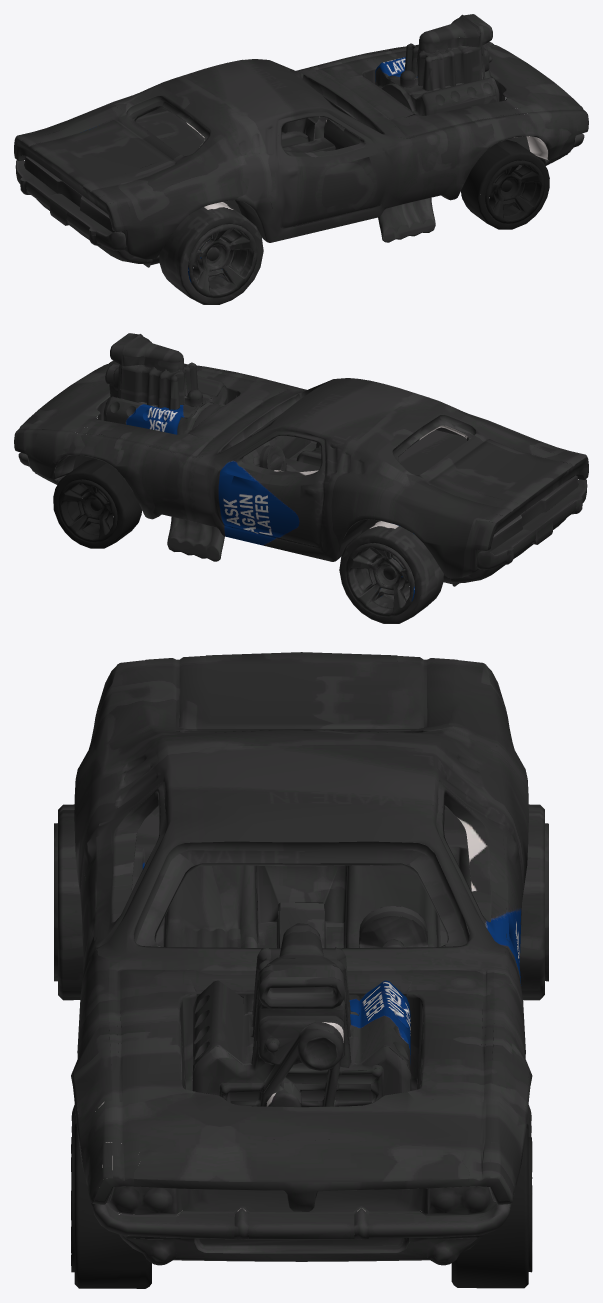
Rendered from car_hotwh_LOD0.fbx.
The picture shows the model from 3 angles, top to bottom: view 1: azimuth 30°, elevation 25°; view 2: azimuth 150°, elevation 25°; view 3: azimuth 270°, elevation 25°; orthographic projection. The views are drawn at different scales.
Parts seen in each view (by area): view 1: car005; view 2: car005; view 3: car005.
Part boxes in pixels (x1=…): car005: x1=14, y1=14, x2=588, y2=304; car005: x1=14, y1=333, x2=588, y2=623; car005: x1=54, y1=652, x2=548, y2=1288.
Size of the model in its own units: 462 by 148 by 202.
Materials: 5 (4 with a texture image).
